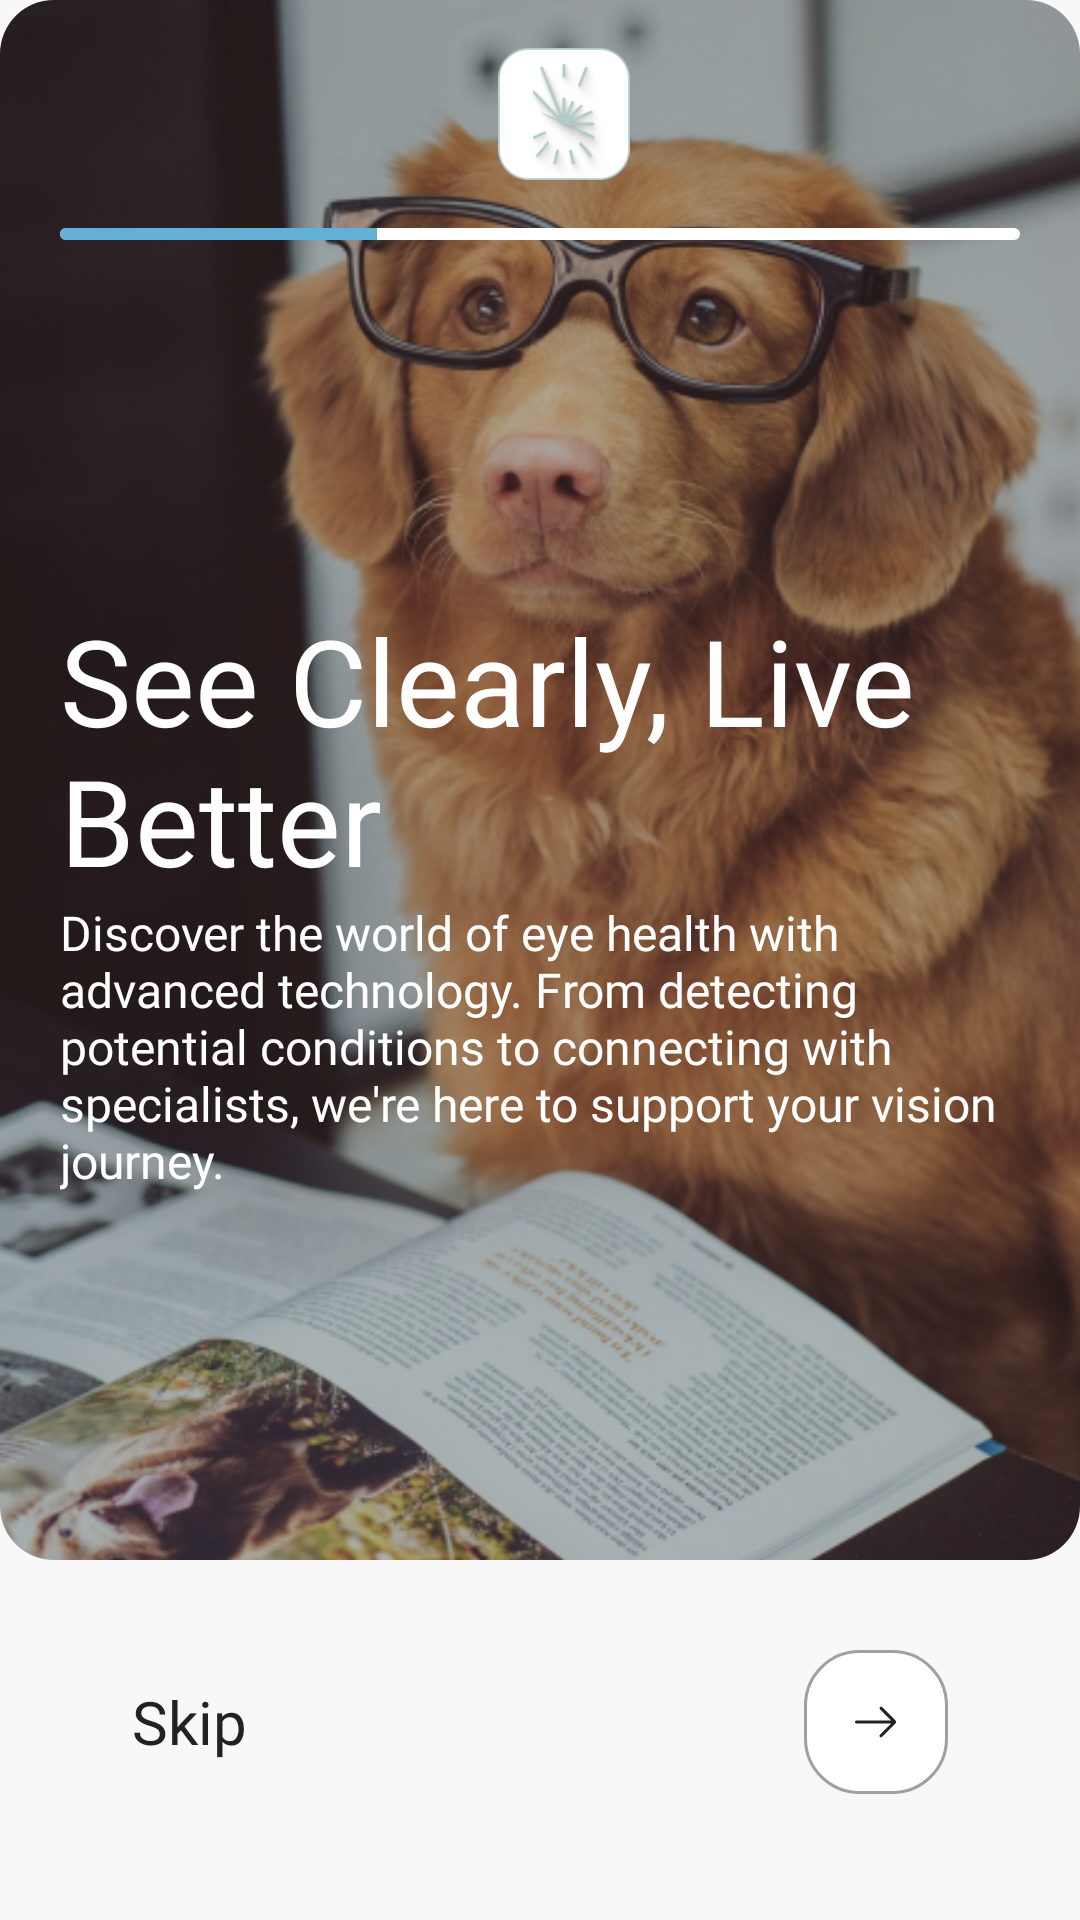

Icons on this 1080×1920 Android screen, each with the point to tap as point (x, y):
app: point (564, 114)
